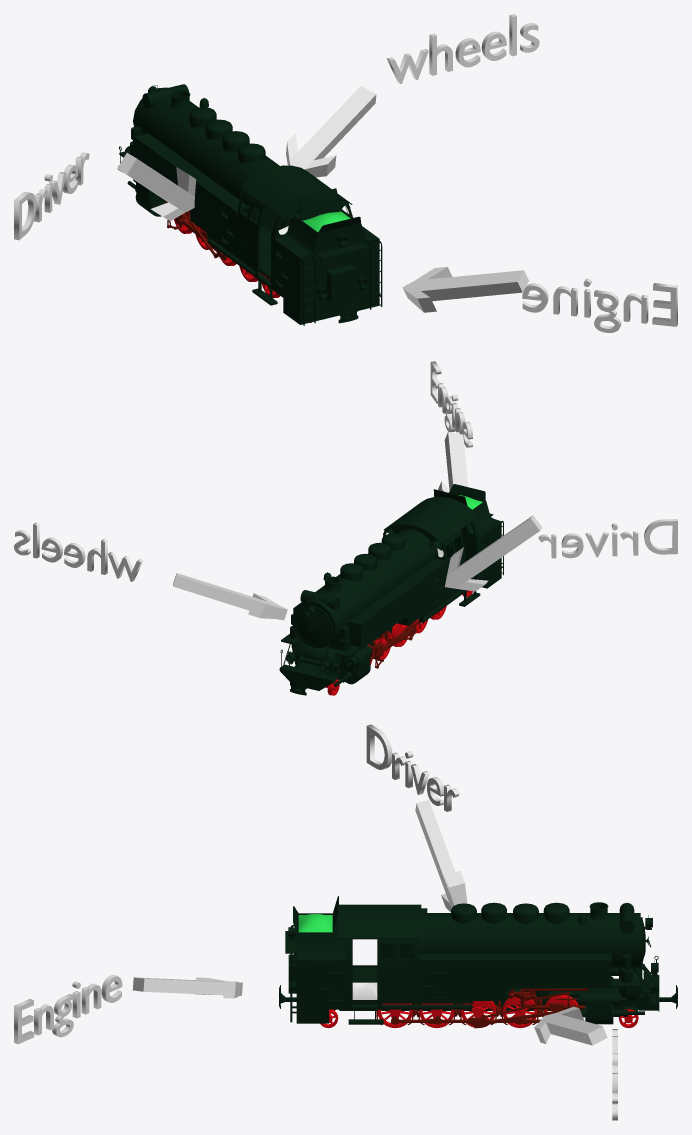
The picture shows the model from 3 angles, top to bottom: view 1: azimuth 30°, elevation 25°; view 2: azimuth 150°, elevation 25°; view 3: azimuth 270°, elevation 25°; orthographic projection. The views are drawn at different scales.
Parts seen in each view (by area): view 1: BR9922, Text.001, arrow.002, Text, arrow, arrow.001, Text.002; view 2: BR9922, arrow.001, Text, Text.002, arrow, Text.001, arrow.002; view 3: BR9922, Text.001, Text.002, arrow.001, arrow, arrow.002, Anbauteile, Kuppelstange_R.
Part boxes in pixels (<box>): BR9922: <box>118,84,382,325</box>; Text.001: <box>522,278,677,332</box>; arrow.002: <box>402,266,528,312</box>; Text: <box>386,14,539,83</box>; arrow: <box>286,86,376,177</box>; arrow.001: <box>117,153,196,221</box>; Text.002: <box>14,152,89,240</box>; BR9922: <box>279,484,503,695</box>; arrow.001: <box>445,515,542,591</box>; Text: <box>14,522,143,581</box>; Text.002: <box>538,519,677,558</box>; arrow: <box>173,573,287,620</box>; Text.001: <box>430,361,472,447</box>; arrow.002: <box>438,431,481,492</box>; BR9922: <box>279,896,677,1024</box>; Text.001: <box>14,975,122,1044</box>; Text.002: <box>366,724,459,811</box>; arrow.001: <box>415,799,467,911</box>; arrow: <box>534,1006,607,1045</box>; arrow.002: <box>132,977,242,998</box>; Anbauteile: <box>376,988,587,1025</box>; Kuppelstange_R: <box>391,1016,540,1025</box>.
Size of the model in its own units: 20.94 by 5.28 by 19.46.
